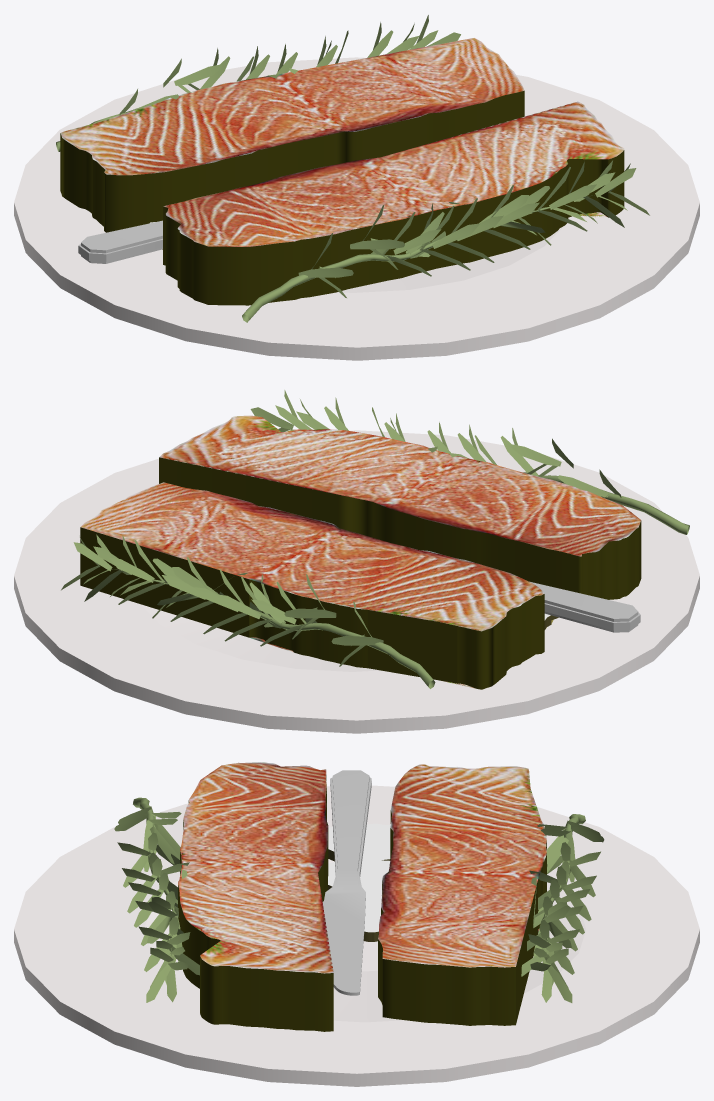
The model's file is Salmon.fbx.
3 renders of one model, top to bottom at view 1: azimuth 30°, elevation 25°; view 2: azimuth 150°, elevation 25°; view 3: azimuth 270°, elevation 25°, orthographic.
Parts seen in each view (by area): view 1: Group2, Group3, Group1, Group4, Group8; view 2: Group2, Group3, Group4, Group1, Group8; view 3: Group2, Group3, Group8, Group1, Group4, Group7, Group5, Group6.
Boxes of the visible parts, x1,y1,x2,y2 form: Group2: [60, 38, 624, 305]; Group3: [14, 57, 699, 360]; Group1: [242, 160, 649, 322]; Group4: [56, 15, 460, 151]; Group8: [78, 220, 162, 263]; Group2: [80, 415, 641, 689]; Group3: [14, 430, 699, 733]; Group4: [61, 534, 435, 688]; Group1: [250, 390, 689, 534]; Group8: [529, 581, 640, 632]; Group2: [178, 762, 546, 1031]; Group3: [14, 785, 699, 1086]; Group8: [322, 770, 371, 995]; Group1: [114, 797, 199, 1002]; Group4: [521, 814, 604, 1002]; Group7: [328, 823, 390, 861]; Group5: [328, 859, 390, 896]; Group6: [363, 895, 381, 941].
Size of the model in its own units: 10.63 by 1.95 by 10.66.
